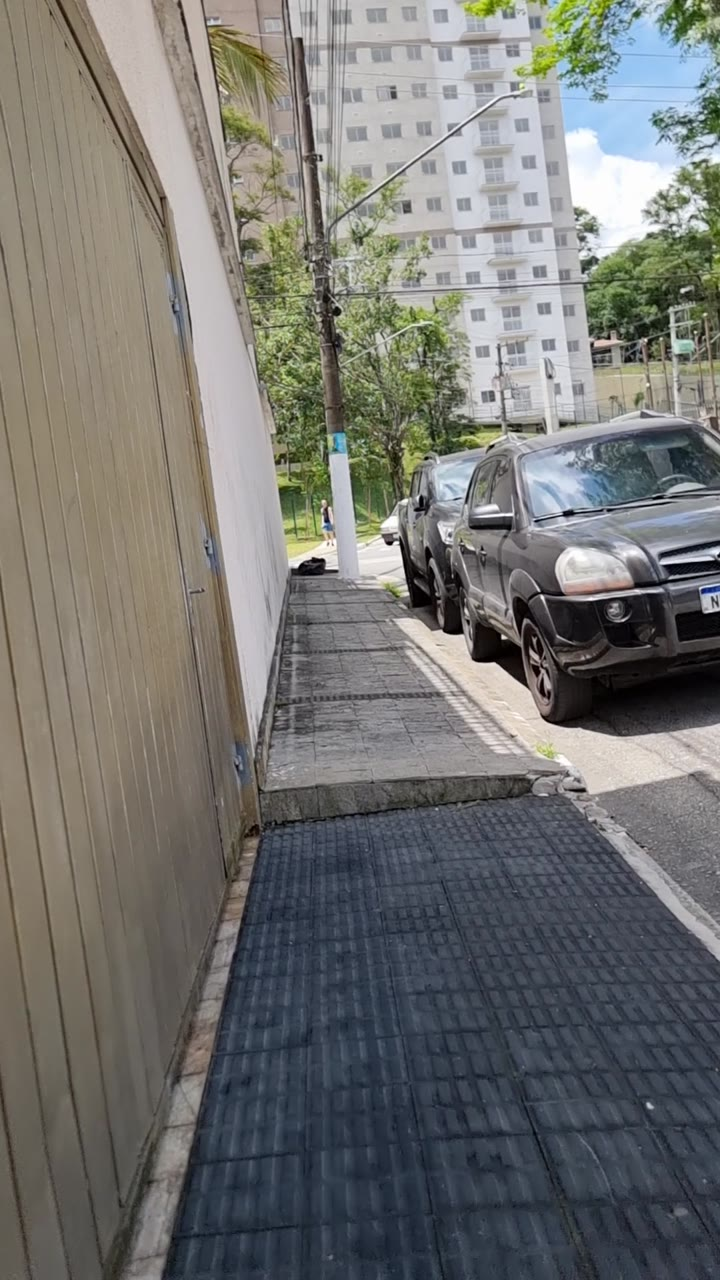desnivel: (144, 755, 720, 832)
obstaculo: (288, 0, 360, 538)
